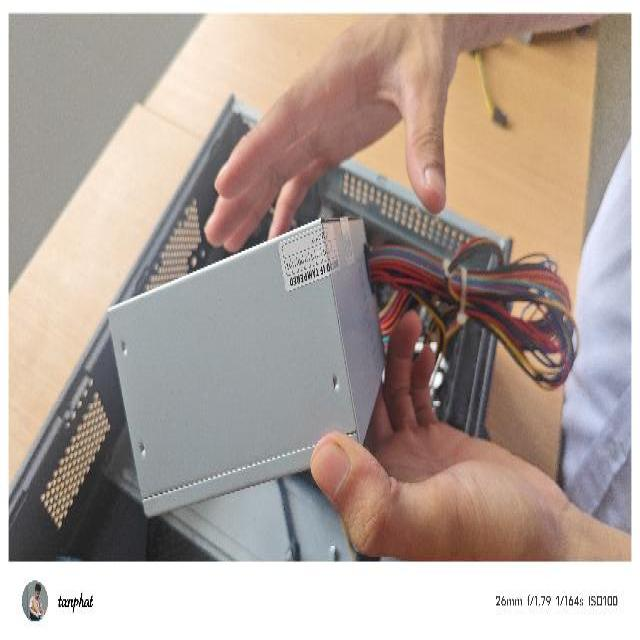PSU: (104, 215, 407, 521)
